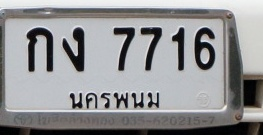txt01: (25, 26, 55, 74)
txt05: (61, 25, 86, 74)
